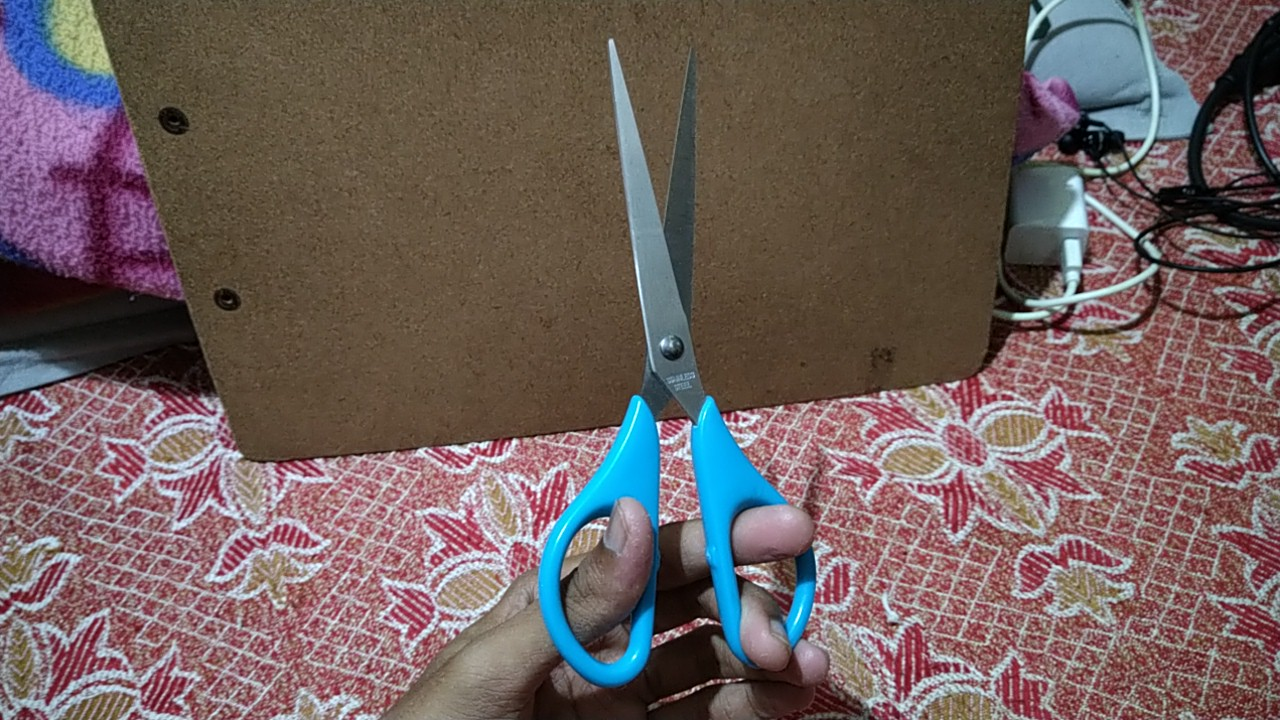scissor: (499, 22, 859, 684)
